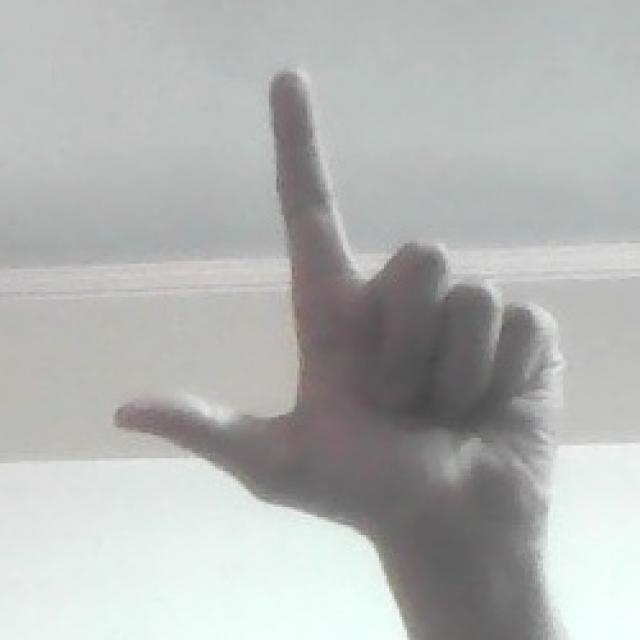Alphabet-L: (88, 58, 574, 542)
